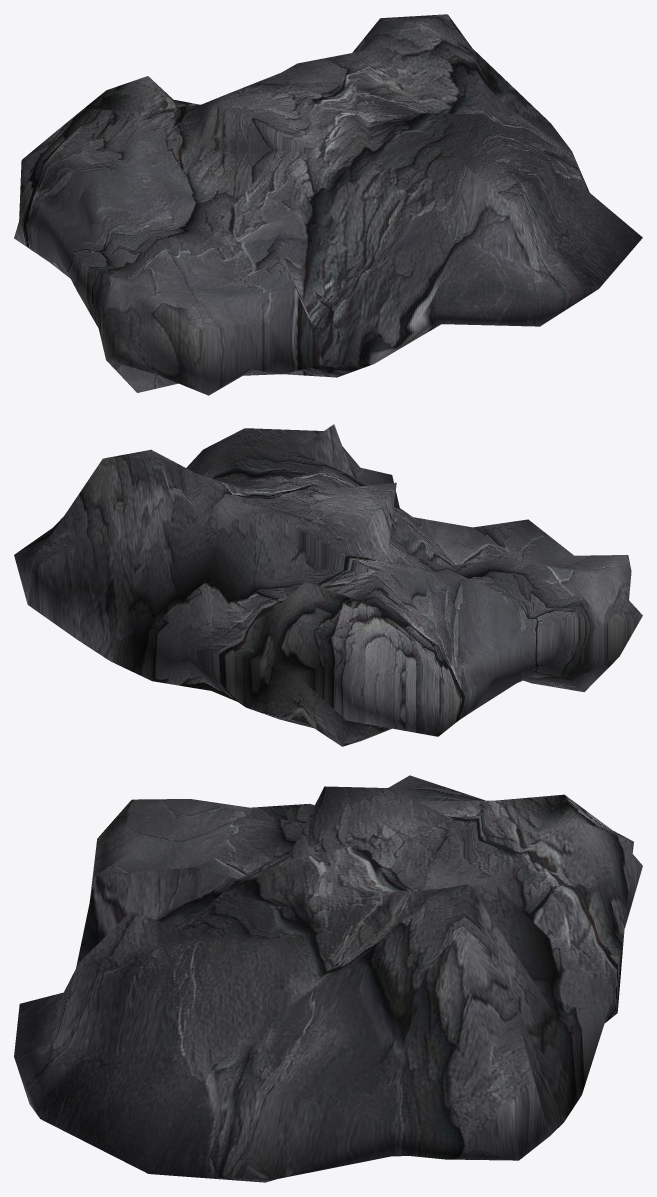
Rendered from RockWall6.fbx.
3 views of the same model, one above another, from view 1: azimuth 30°, elevation 25°; view 2: azimuth 150°, elevation 25°; view 3: azimuth 270°, elevation 25° (orthographic). The views are drawn at different scales.
Visible parts, largest first — view 1: Куб.080; view 2: Куб.080; view 3: Куб.080.
Boxes of the visible parts, x1,y1,x2,y2 form: Куб.080: (14, 14, 642, 395); Куб.080: (14, 424, 642, 746); Куб.080: (14, 775, 642, 1182).
Bounding box in the file's own units: 343 × 143 × 277.
